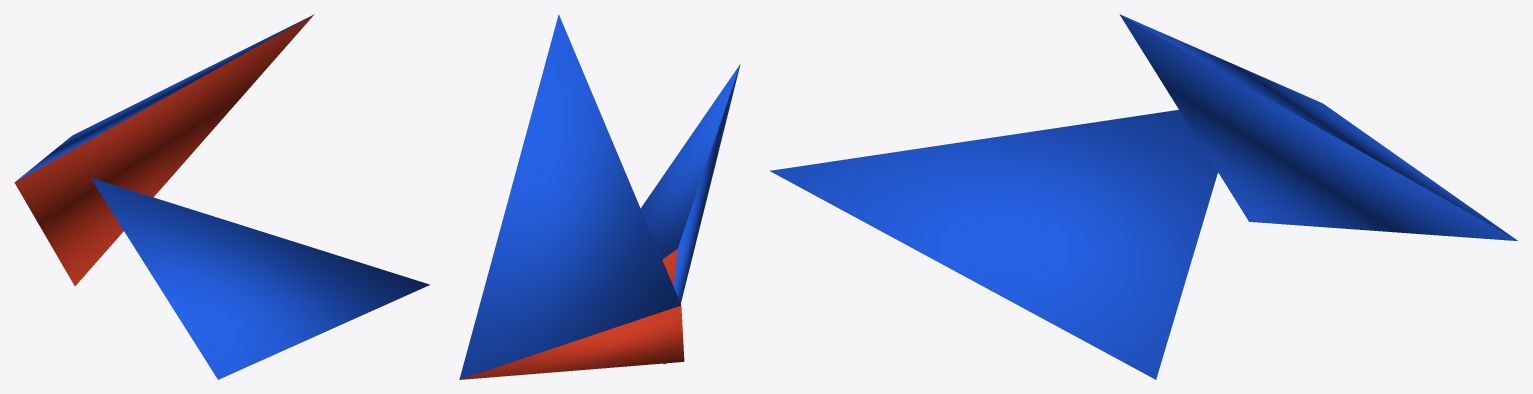
File: wrong_m_metadata_ascii7400.fbx
3 views of the same model, side by side, from view 1: azimuth 30°, elevation 25°; view 2: azimuth 150°, elevation 25°; view 3: azimuth 270°, elevation 25° (orthographic). The views are drawn at different scales.
Visible parts, largest first — view 1: Repeated Part (×2); view 2: Repeated Part (×2); view 3: Repeated Part (×2).
Part boxes in pixels (bbox=[...]): Repeated Part (×2): bbox=[14, 14, 429, 379]; Repeated Part (×2): bbox=[459, 14, 740, 379]; Repeated Part (×2): bbox=[770, 14, 1518, 379].
Size of the model in its own units: 2036 by 5345 by 3077.
